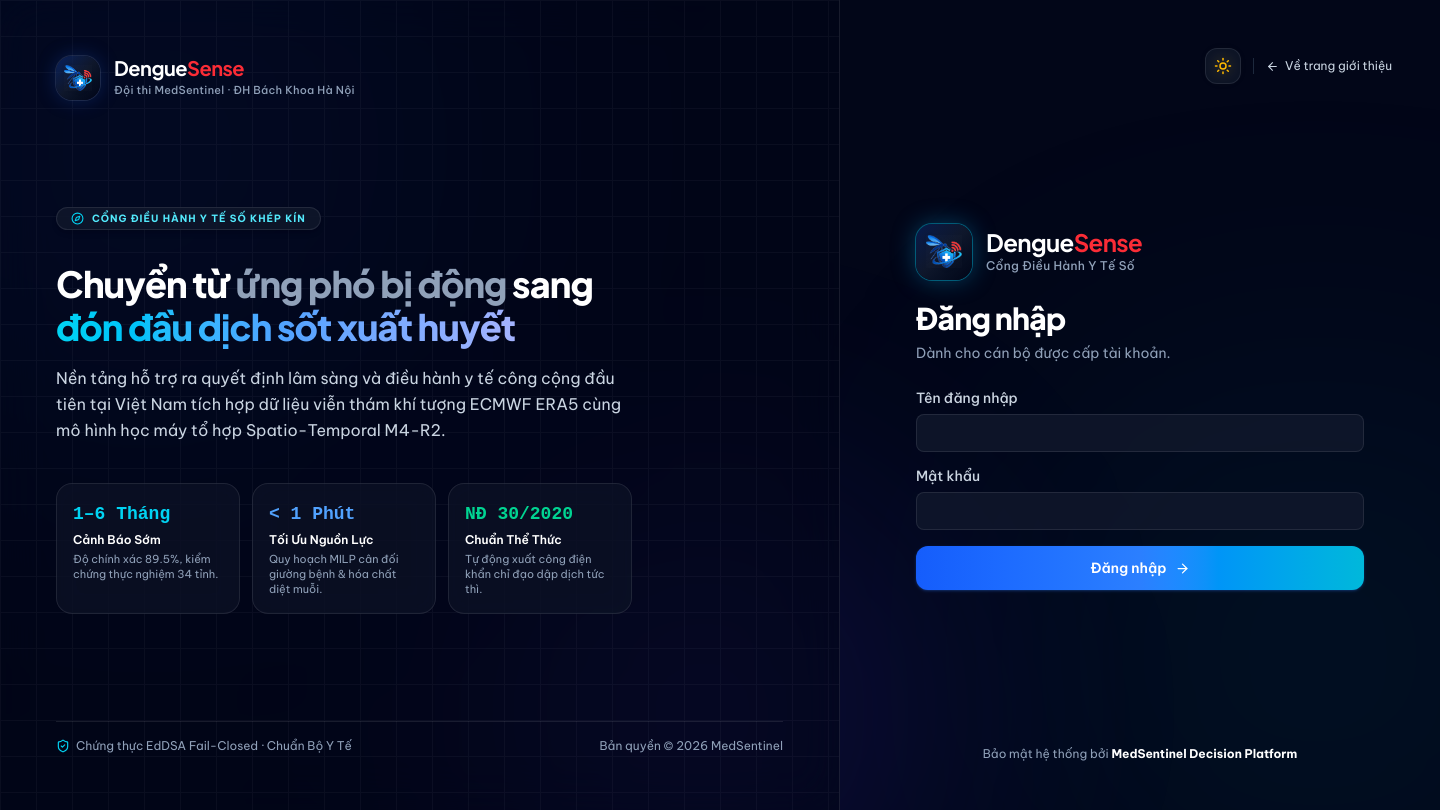
Test: đăng nhập › để trống → báo lỗi từng trường, KHÔNG gọi mạng
Click the button "Đăng nhập" at (1140, 568), box [916,546,1364,590]
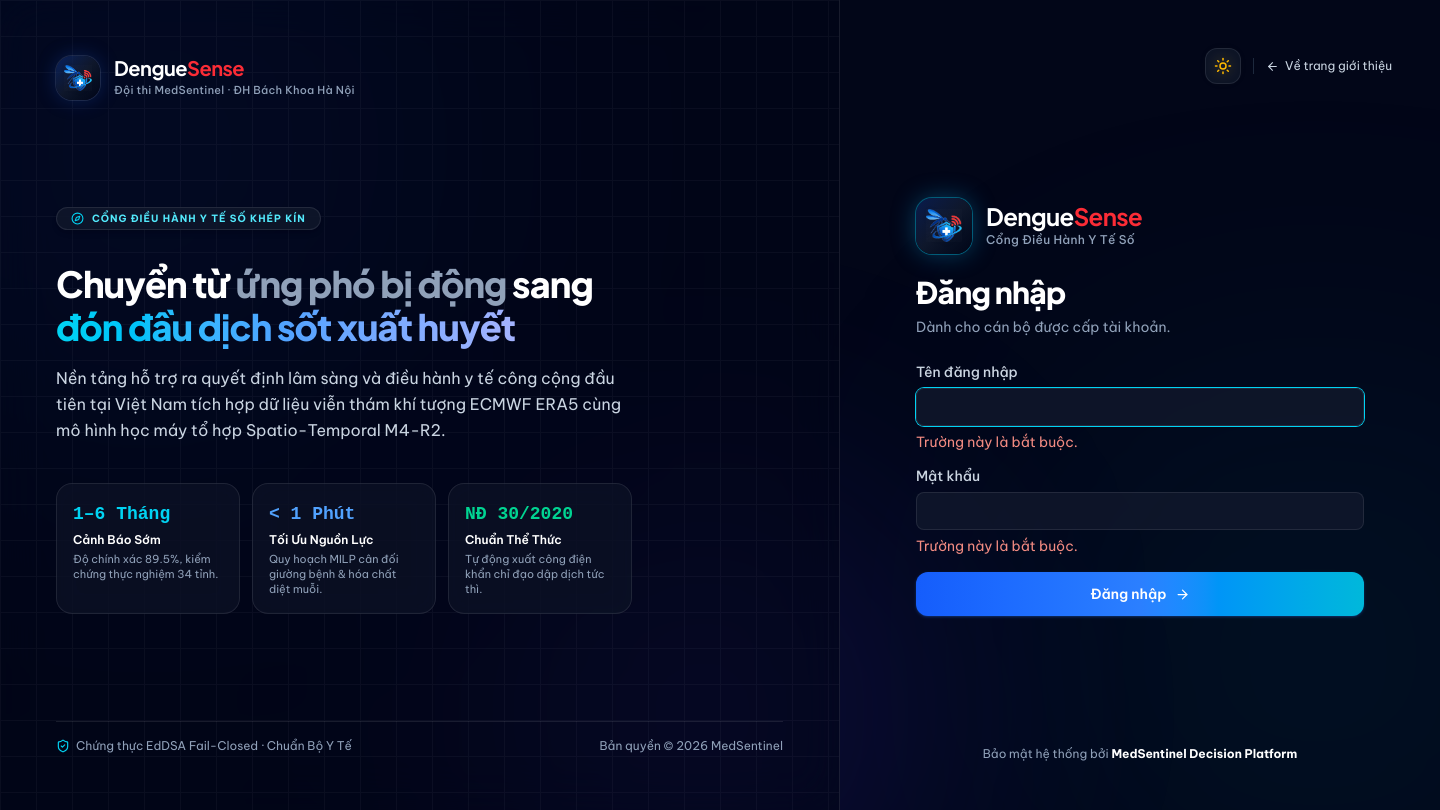
Check: the text "Trường này là bắt buộc." is shown 2 times, box [916,433,1078,451]; [916,537,1078,555]
